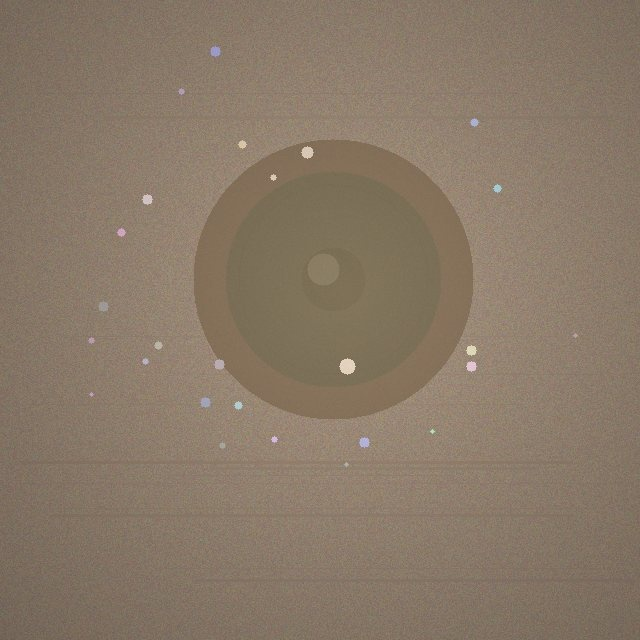overburn: (193, 139, 473, 419)
